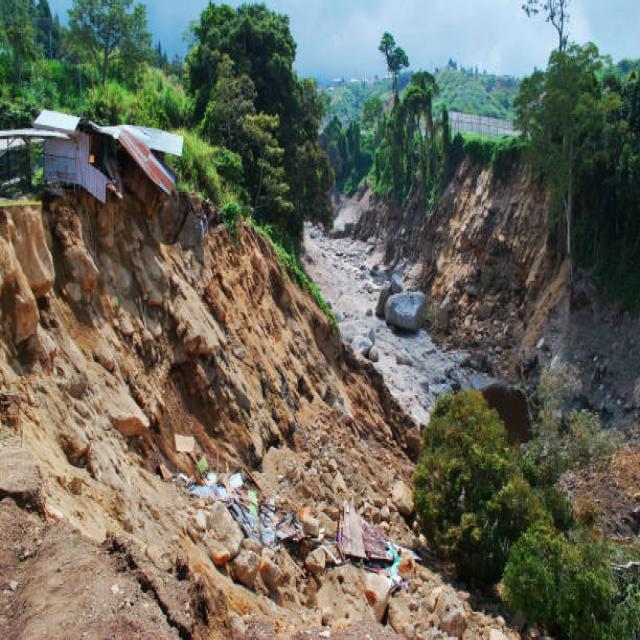landSliding: (5, 89, 466, 640)
